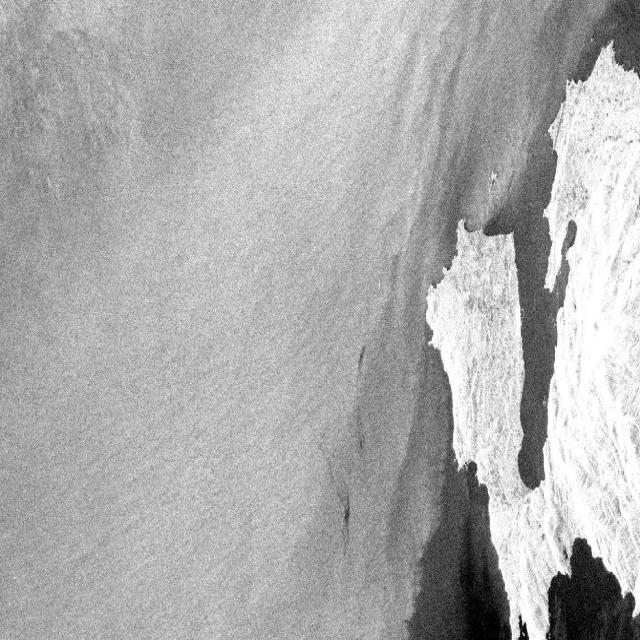look-alike: (416, 463, 508, 640), (547, 536, 635, 640)
oil-spill: (338, 489, 354, 560), (353, 343, 367, 375), (357, 433, 367, 457)
